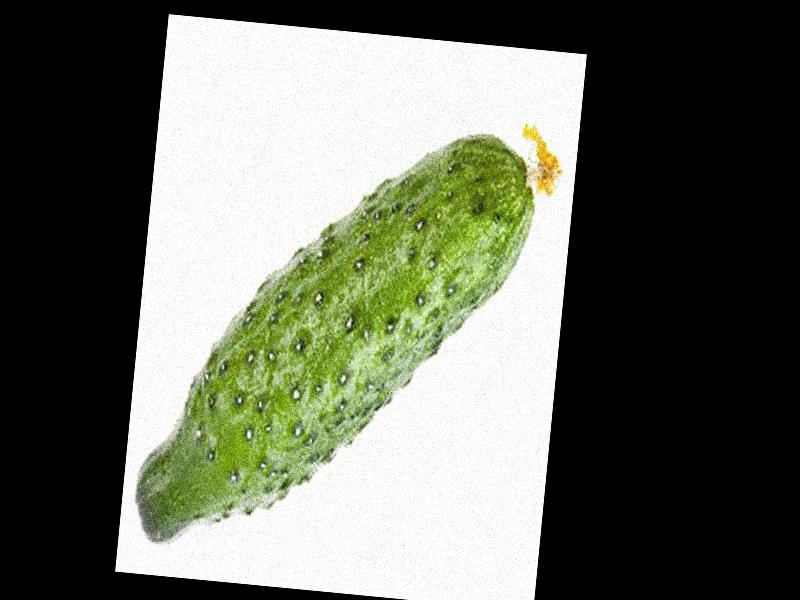Cucumber: (133, 92, 565, 578)
